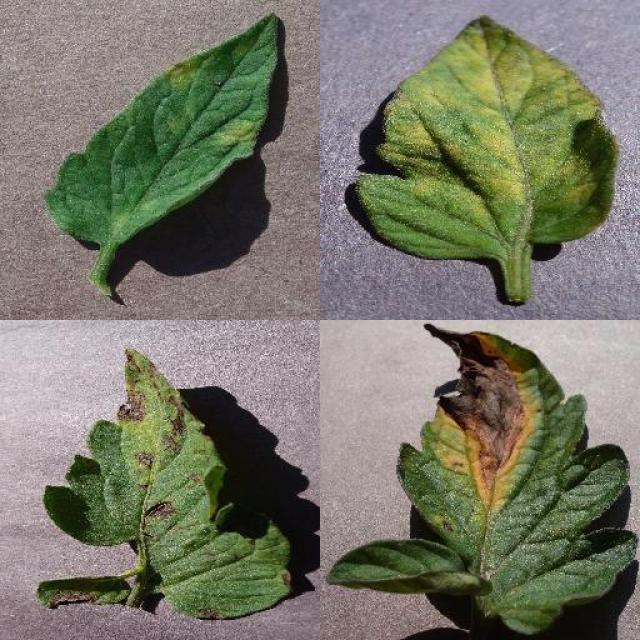Early Blight: (394, 325, 640, 640), (44, 346, 291, 624)
